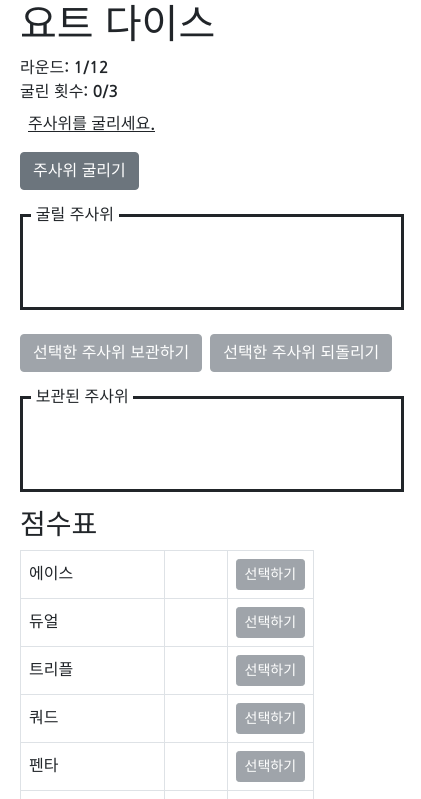
점수 결정하기 › 점수 결정 시 다음 라운드로 가기
Click the button "주사위 굴리기": (80, 171) [20,152,139,190]
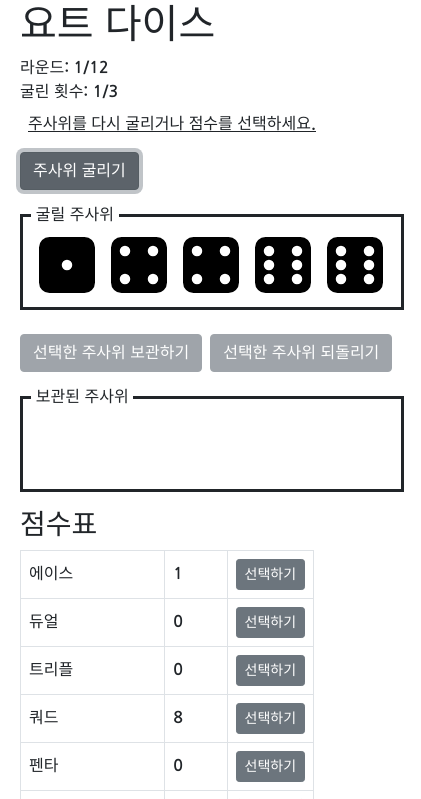
Click the button with test id "select-ace": (271, 575) [236,559,306,590]
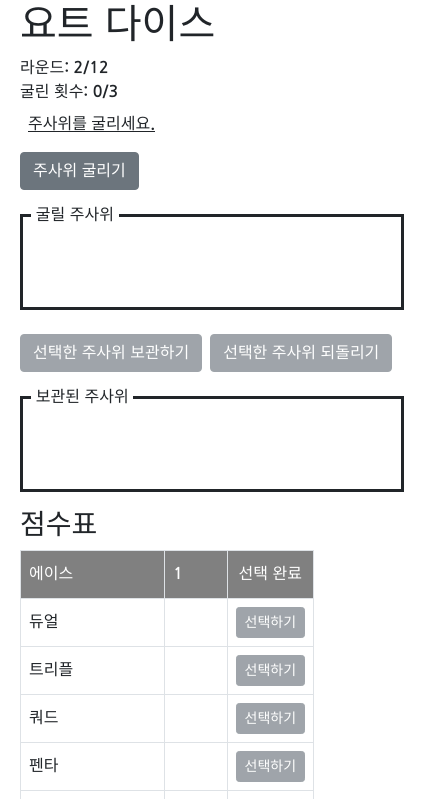
Now the text with test id "round" reads "2", box [74,60,84,75]
Now the text with test id "roll-count" reads "0", box [93,84,103,99]
Now the text with test id "instruction" reads "주사위를 굴리세요.", box [28,116,155,132]
